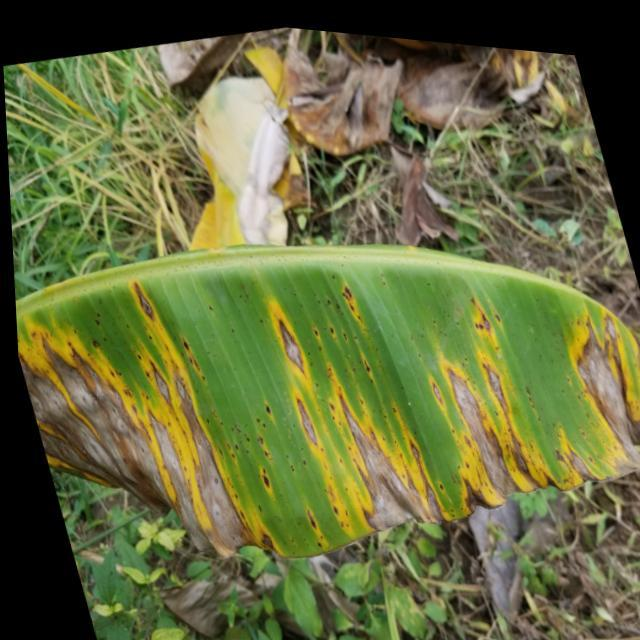Early_rust: (0, 221, 640, 557)
